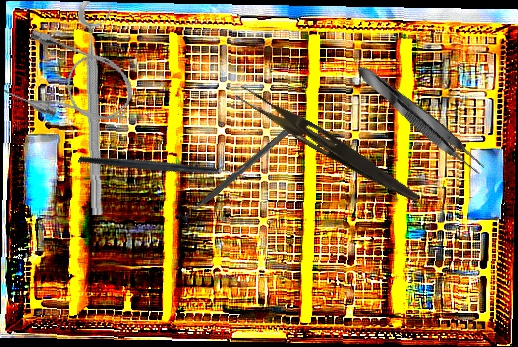Cannula: (0, 26, 142, 140)
Chopper: (77, 98, 247, 228)
Dressing Forceps: (230, 83, 425, 206)
Fixation Ring: (173, 121, 296, 233), (77, 0, 121, 216)
Tissue Forceps: (350, 58, 491, 180)
